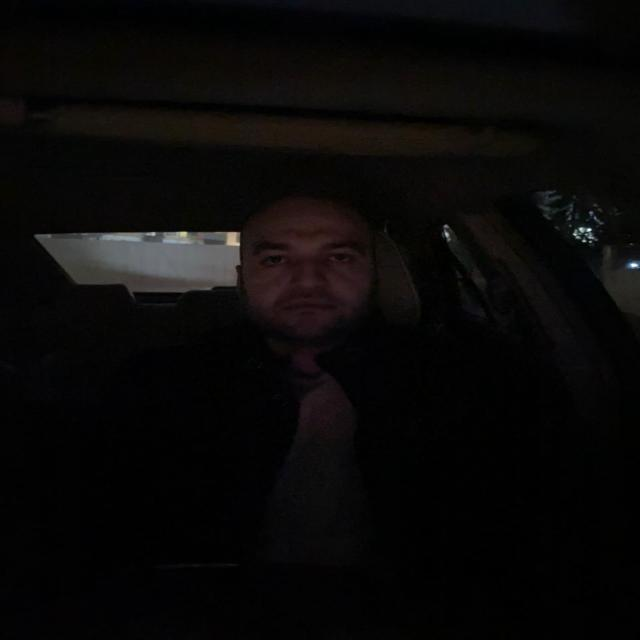person: (223, 185, 403, 362)
